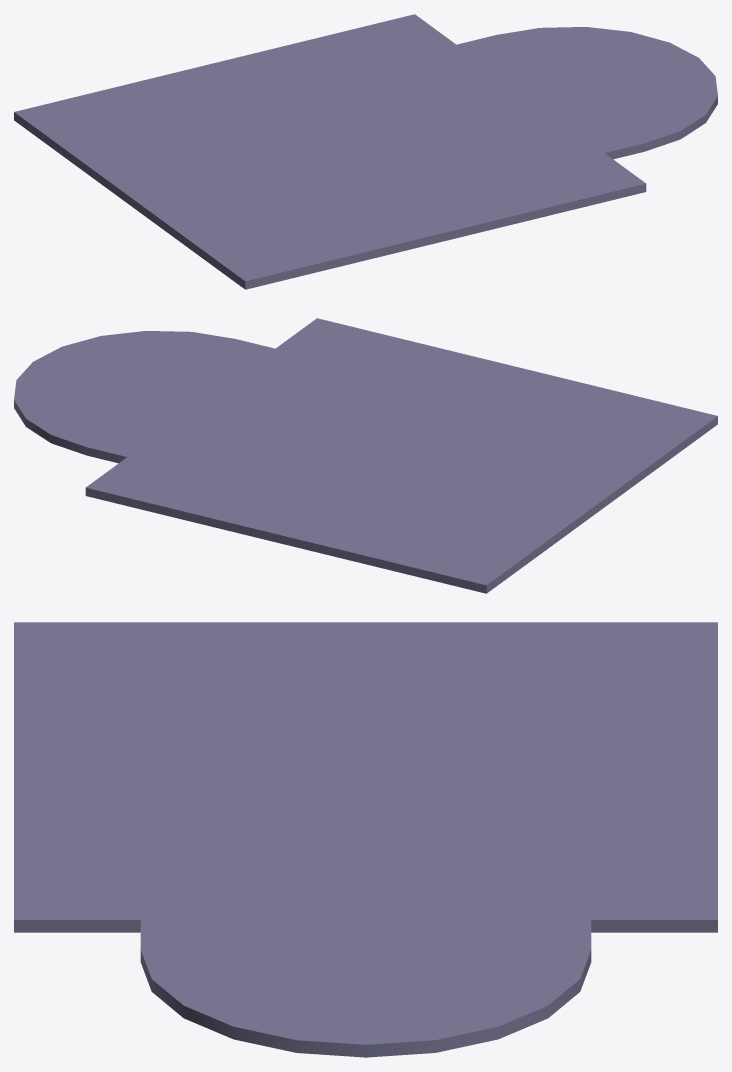
File: floor_March26.gltf
The picture shows the model from 3 angles, top to bottom: view 1: azimuth 30°, elevation 25°; view 2: azimuth 150°, elevation 25°; view 3: azimuth 270°, elevation 25°; orthographic projection. The views are drawn at different scales.
Parts seen in each view (by area): view 1: floor_geo.001, circleFloor_geo; view 2: floor_geo.001, circleFloor_geo; view 3: floor_geo.001, circleFloor_geo.
Part boxes in pixels (x1,y1,x2,y2): floor_geo.001: [14, 14, 646, 289]; circleFloor_geo: [449, 27, 717, 159]; floor_geo.001: [85, 318, 717, 593]; circleFloor_geo: [14, 331, 282, 463]; floor_geo.001: [14, 622, 717, 932]; circleFloor_geo: [140, 914, 591, 1057].
Size of the model in its own units: 35.5 by 0.5 by 25.
